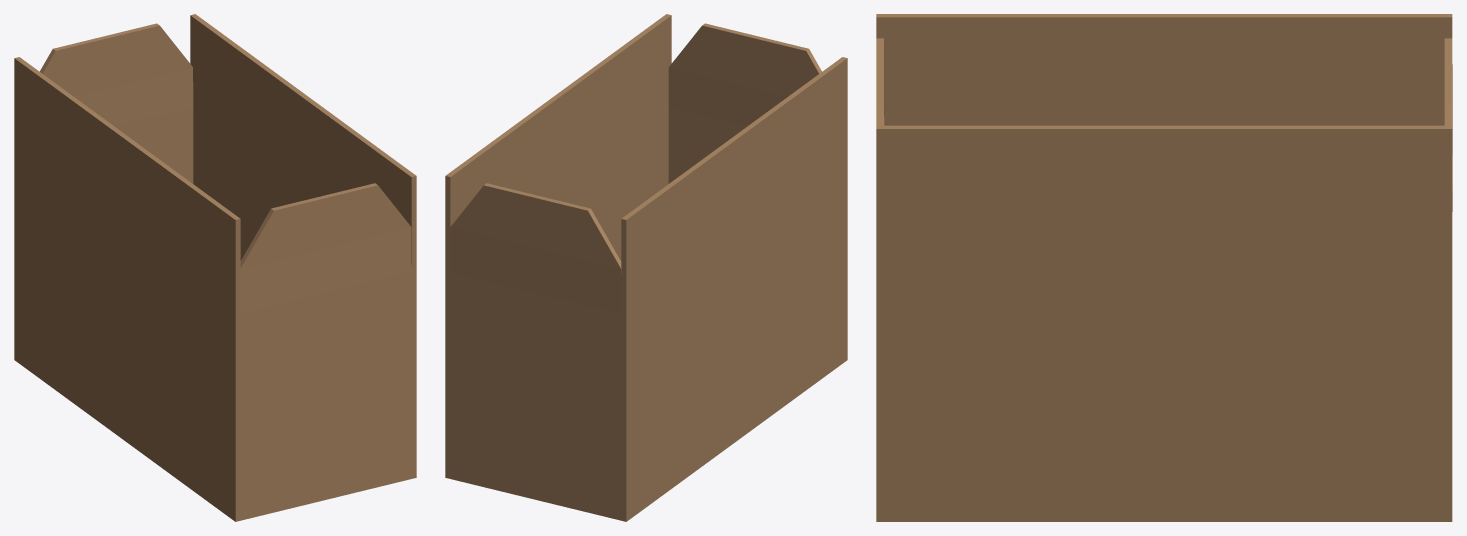
The model's file is cardboardBox.gltf.
3 renders of one model, left to right at view 1: azimuth 30°, elevation 25°; view 2: azimuth 150°, elevation 25°; view 3: azimuth 270°, elevation 25°, orthographic. The views are drawn at different scales.
Parts seen in each view (by area): view 1: View2_Aggregation_(2)3dm; view 2: View2_Aggregation_(2)3dm; view 3: View2_Aggregation_(2)3dm.
Part boxes in pixels (bbox=[...]): View2_Aggregation_(2)3dm: bbox=[14, 14, 416, 521]; View2_Aggregation_(2)3dm: bbox=[445, 14, 847, 521]; View2_Aggregation_(2)3dm: bbox=[876, 14, 1452, 521].
Bounding box in the file's own units: 5.29 × 8.43 × 11.2.
